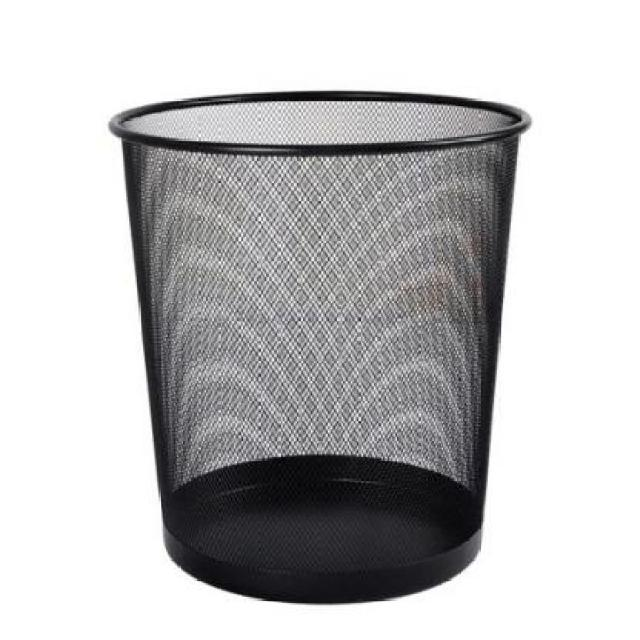dustbin: (103, 83, 538, 610)
